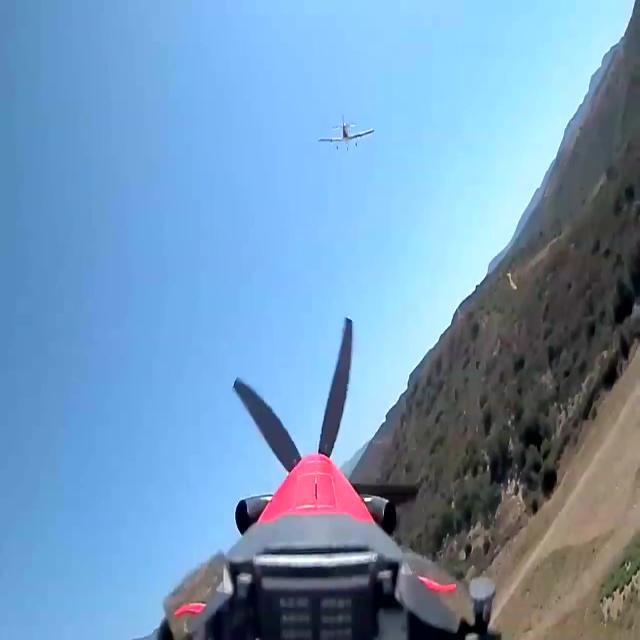iha: (318, 114, 374, 154)
